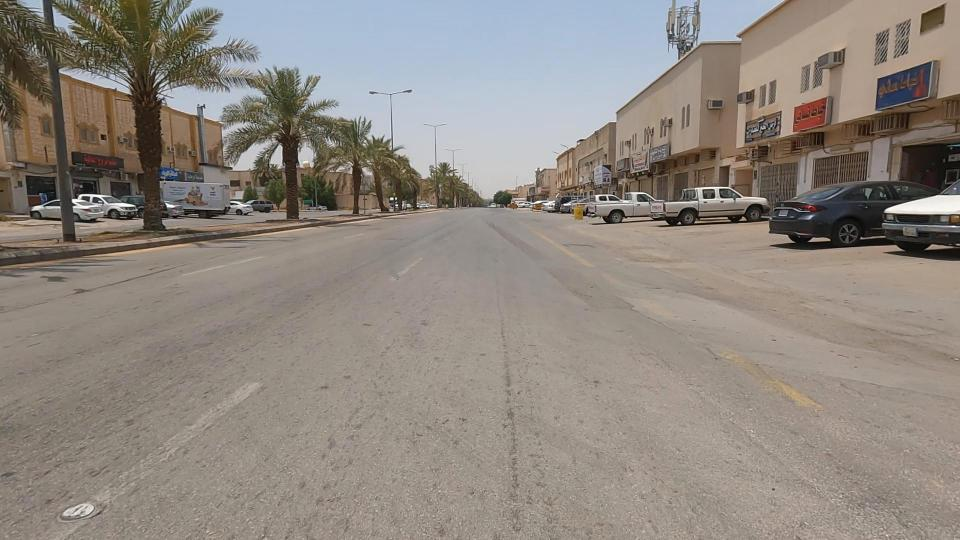BAD_BILLBOARD: (602, 143, 639, 189)
